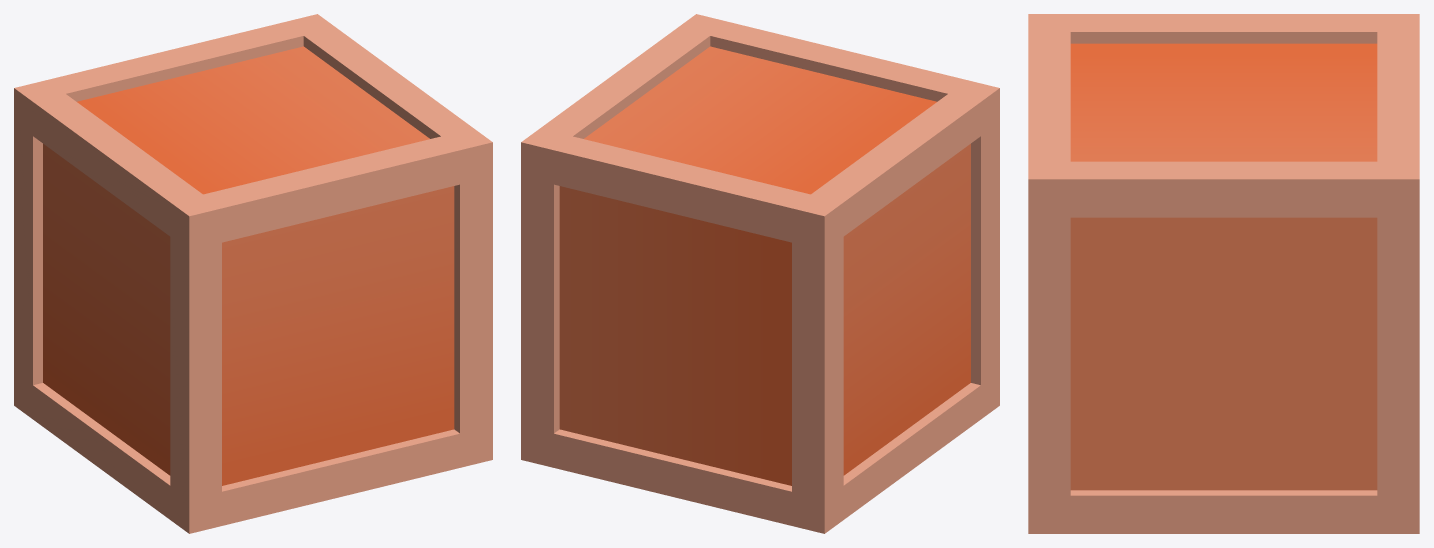
Rendered from BoxWooden1.fbx.
The picture shows the model from 3 angles, left to right: view 1: azimuth 30°, elevation 25°; view 2: azimuth 150°, elevation 25°; view 3: azimuth 270°, elevation 25°; orthographic projection. The views are drawn at different scales.
Visible parts, largest first — view 1: BoxWood; view 2: BoxWood; view 3: BoxWood.
Part boxes in pixels (left/top/right/bottom): BoxWood: left=14, top=14, right=492, bottom=533; BoxWood: left=521, top=14, right=999, bottom=533; BoxWood: left=1028, top=14, right=1419, bottom=533.
Bounding box in the file's own units: 126 × 126 × 126.
